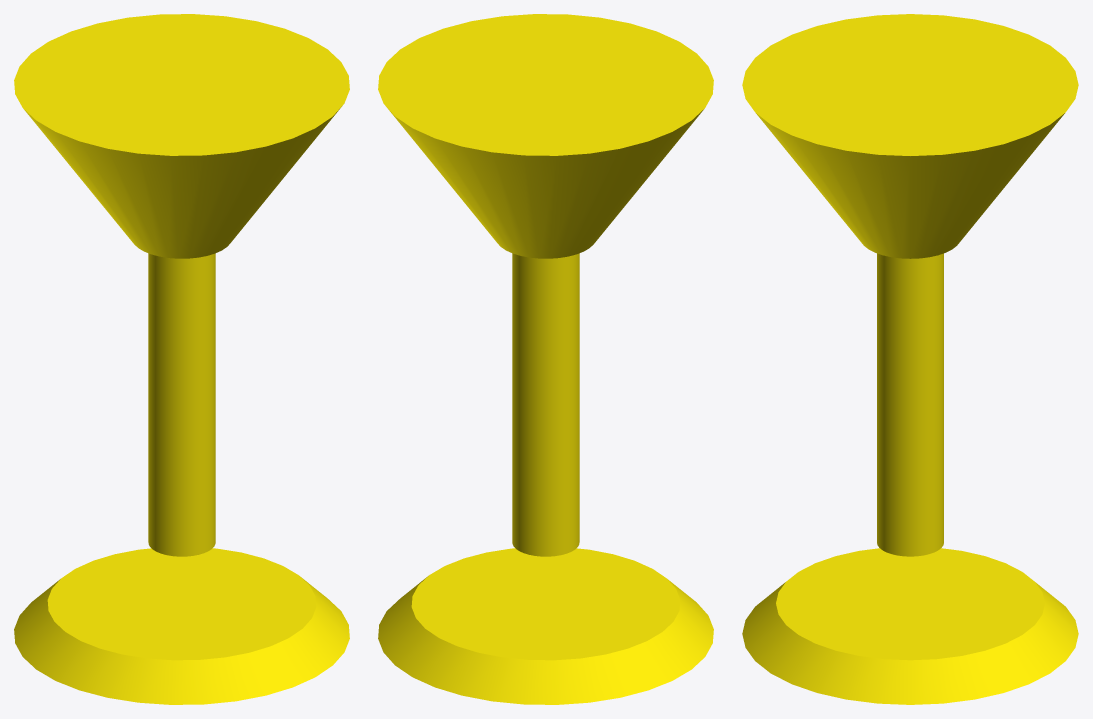
File: trophy.gltf
The picture shows the model from 3 angles, left to right: view 1: azimuth 30°, elevation 25°; view 2: azimuth 150°, elevation 25°; view 3: azimuth 270°, elevation 25°; orthographic projection.
Bounding box in the file's own units: 2 × 3.6 × 2.
